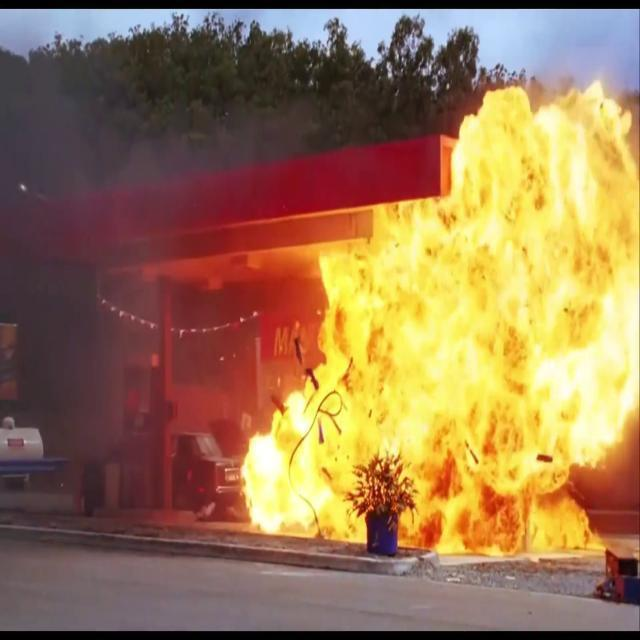fire: (237, 92, 640, 550)
